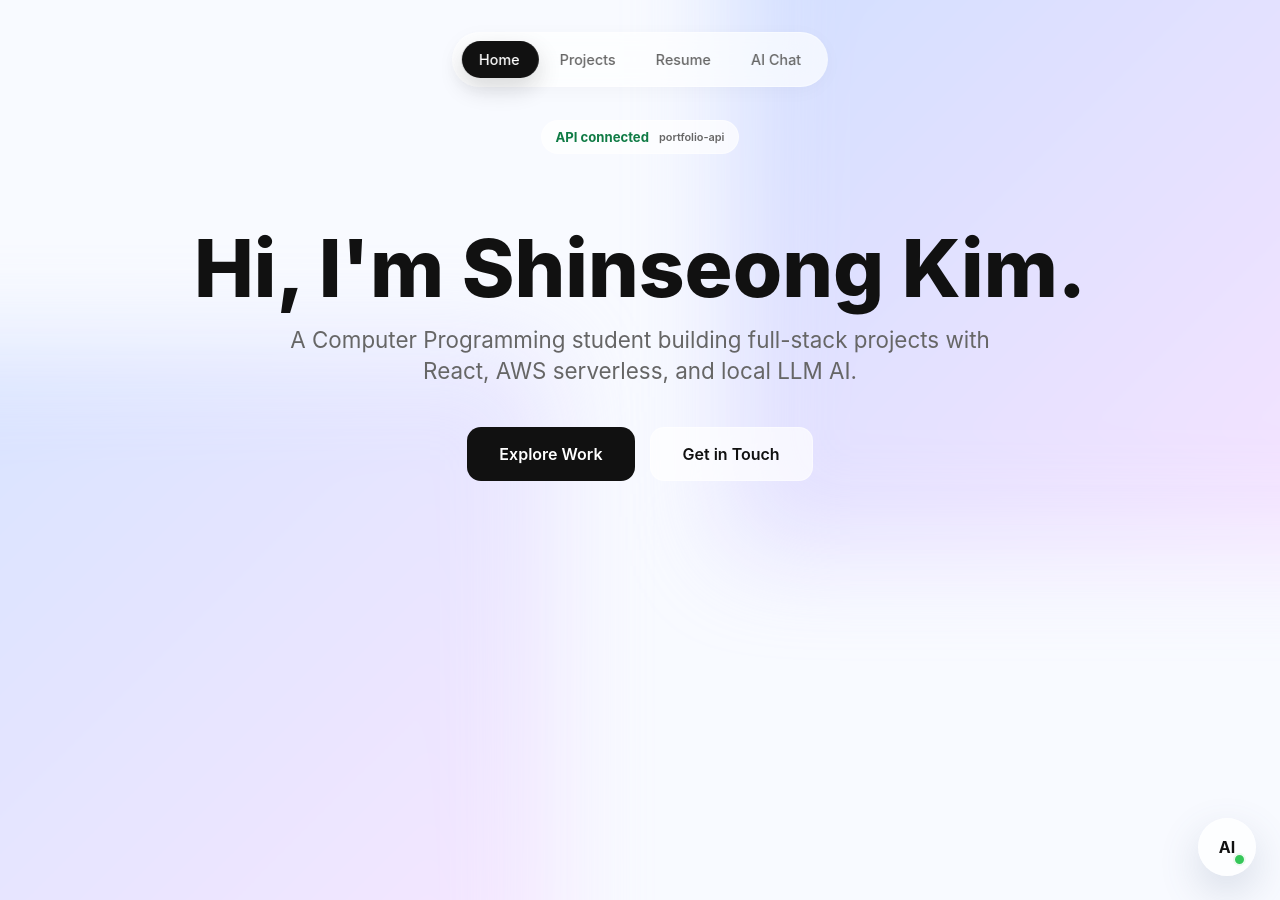
Scenario: App › clears local AI chat history
Click the button "AI Chat" at (776, 60), box [733, 41, 819, 78]
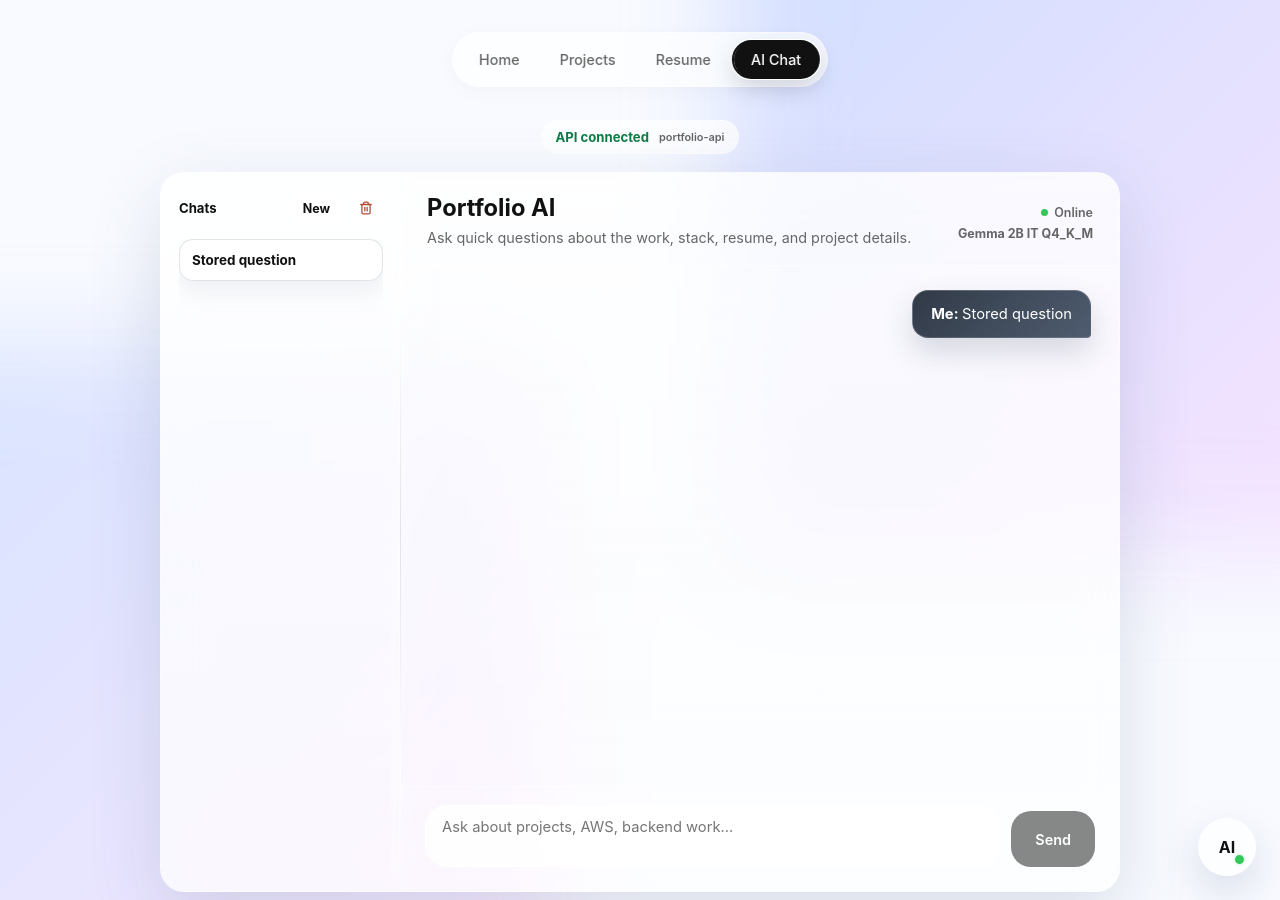
Result: the button "Stored question" is shown at [179, 239, 383, 281]
Click the button named "Clear chat history" at (366, 208), box [349, 191, 383, 225]
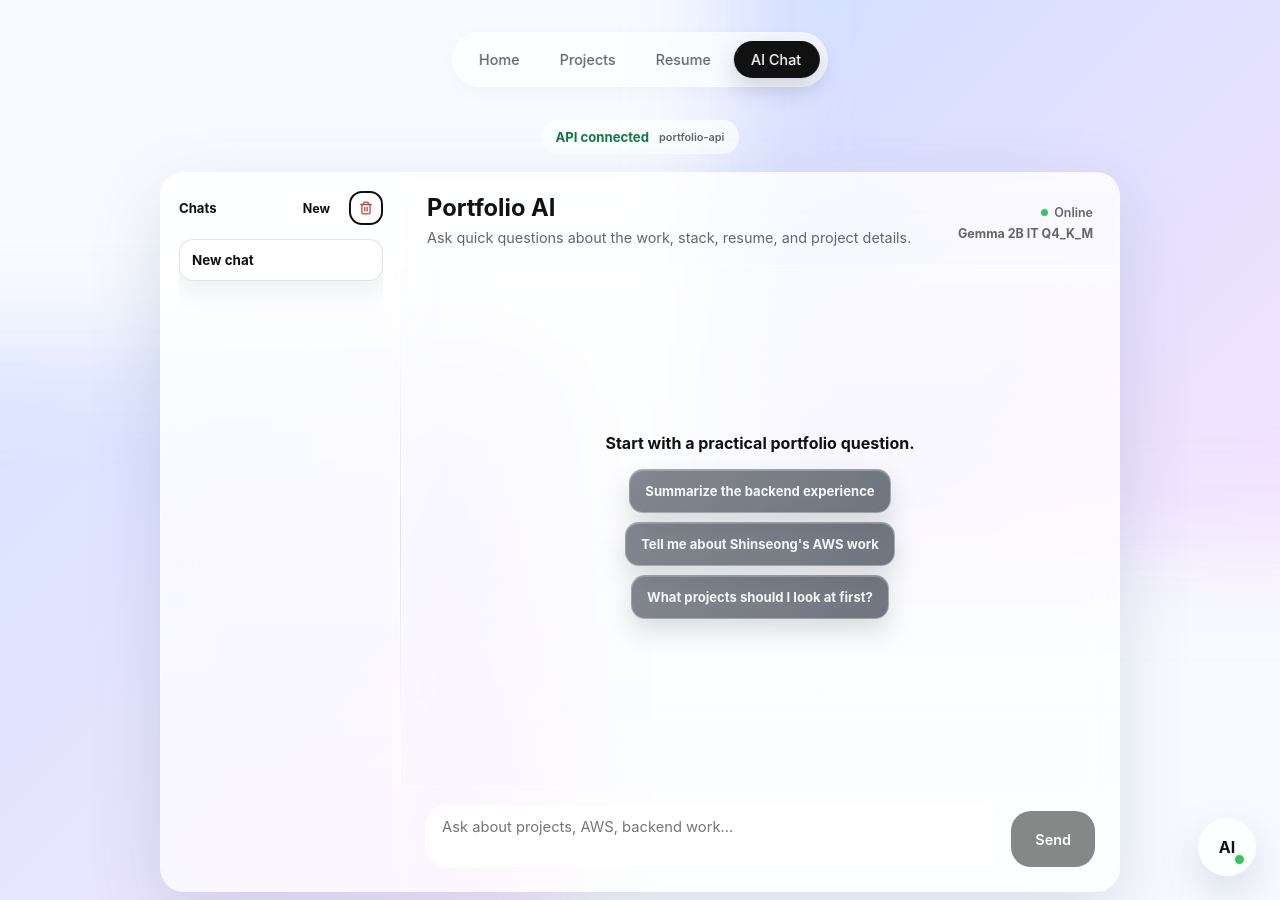
Result: the number of buttons "New chat" is 1 at [179, 239, 383, 281]
Result: the button "Stored question" is gone
